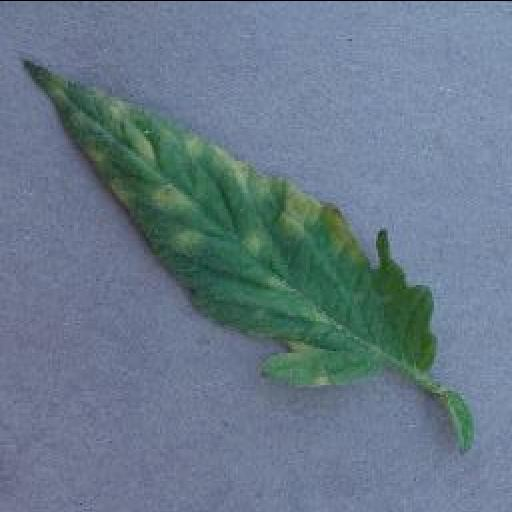disease_tomato: (18, 58, 434, 388)
